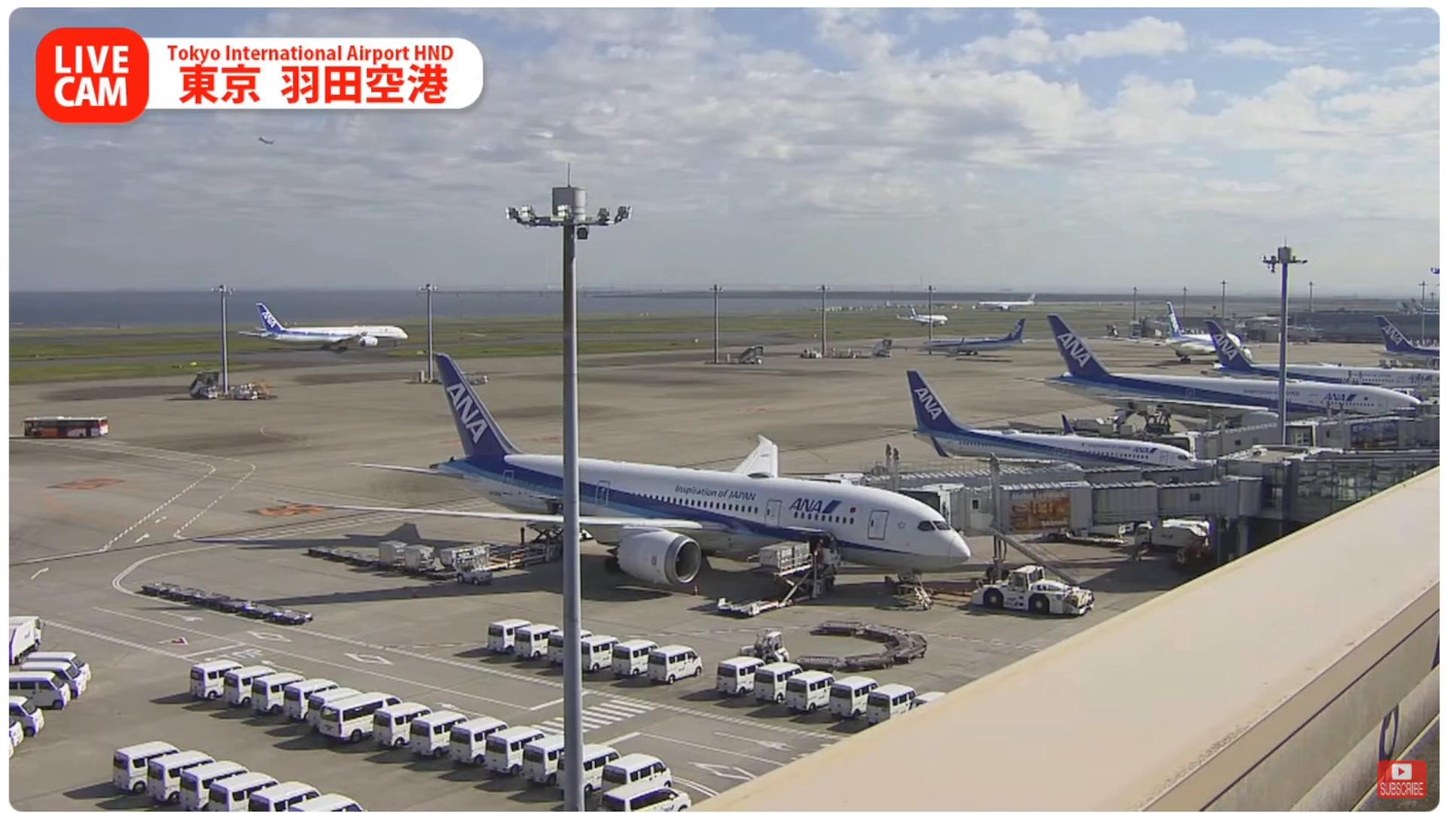APS: (969, 564, 1106, 619)
Aerobridge: (899, 476, 1264, 540), (843, 457, 1217, 496)
Airplane: (330, 354, 973, 599)
Dolly: (137, 576, 315, 628), (792, 617, 929, 671), (308, 539, 456, 583)
JCPL: (716, 556, 842, 620), (450, 522, 565, 575)
Tractor: (737, 625, 789, 662), (454, 553, 493, 585)
Window: (1290, 456, 1440, 523)
